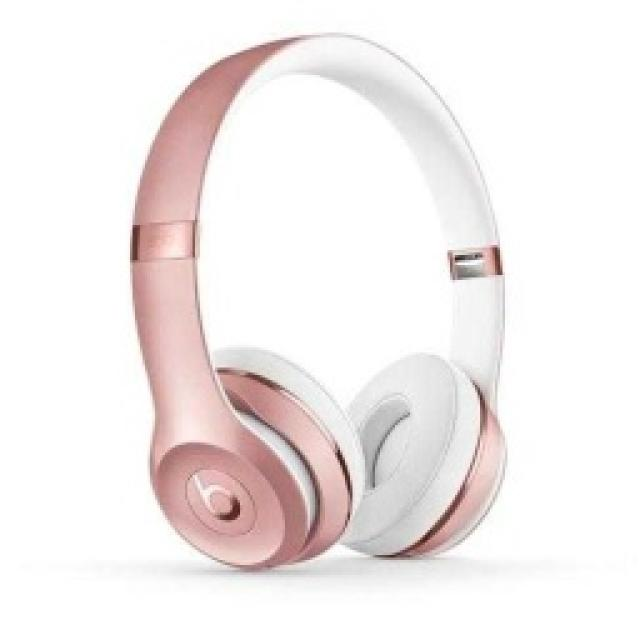headphones: (128, 28, 508, 570)
